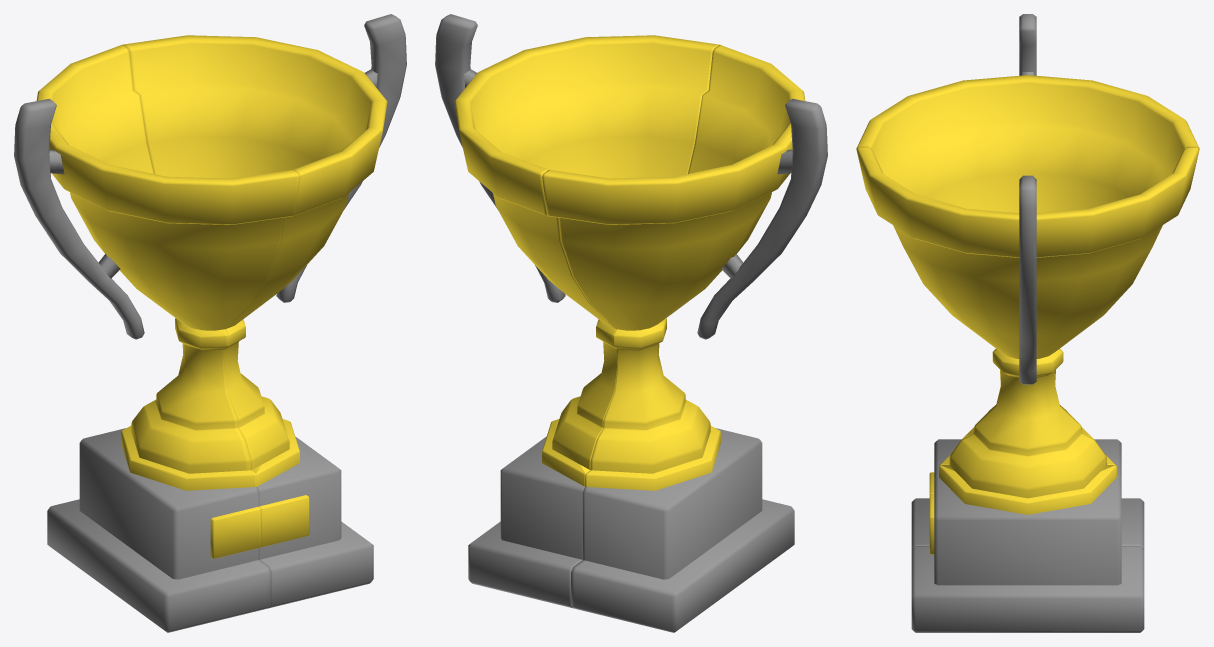
Rendered from SM_Award_02a.fbx.
3 views of the same model, side by side, from view 1: azimuth 30°, elevation 25°; view 2: azimuth 150°, elevation 25°; view 3: azimuth 270°, elevation 25° (orthographic). The views are drawn at different scales.
Parts seen in each view (by area): view 1: Award_02, Award_01; view 2: Award_02, Award_01; view 3: Award_01, Award_02.
Part boxes in pixels (box(x1,y1,x2,y2)): Award_02: box(14, 45, 299, 632); Award_01: box(122, 14, 406, 608); Award_02: box(542, 45, 827, 632); Award_01: box(435, 14, 719, 608); Award_01: box(856, 146, 1199, 632); Award_02: box(856, 14, 1199, 548).
Size of the model in its own units: 31.43 by 39.11 by 25.07.
